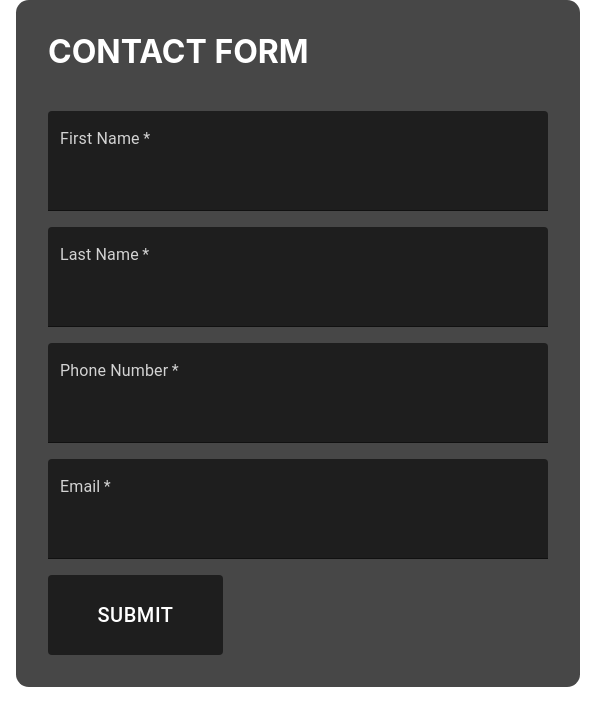
Test: Form › displays an error for invalid email
Type "abc" into the field labelled "Email *" at (298, 509), box [48,470,548,548]
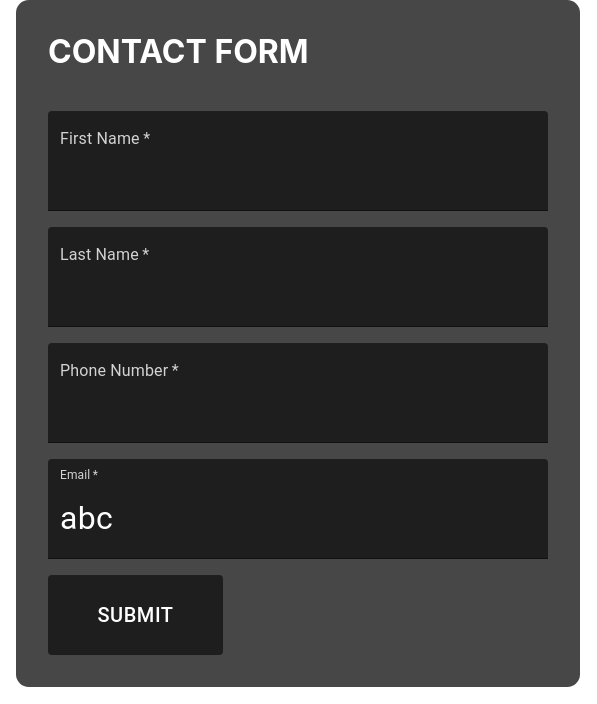
Submit the form from the button "Submit", box [48,575,223,655]
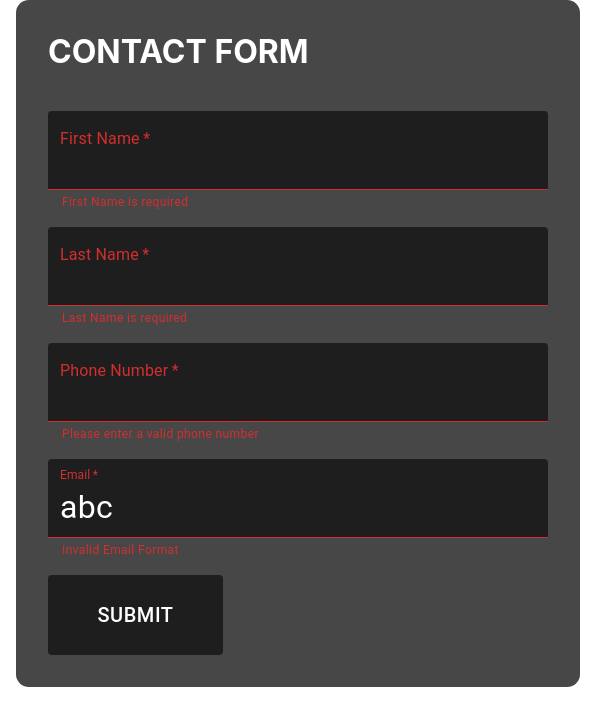
Expected: the text "Invalid Email Format" is shown, [62,543,179,557]
